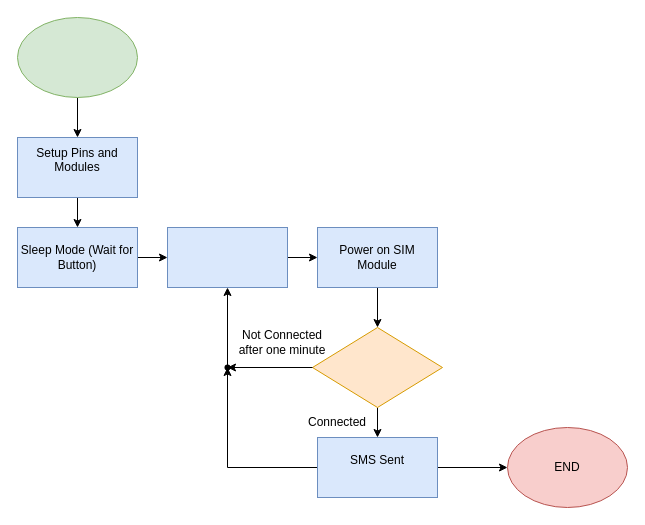
The diagram is 645 pixels wide and 525 high, and some of its shapes have lost their labels. The box of each missing label's shape, as (x1, y1, x2, y2) in pixels:
START: (16, 16, 138, 98)
Wait for Network: (312, 326, 442, 408)
Wake Up on Button Press: (166, 226, 288, 288)
